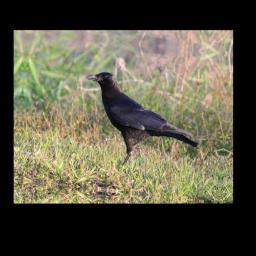Crow: (76, 68, 206, 177)
